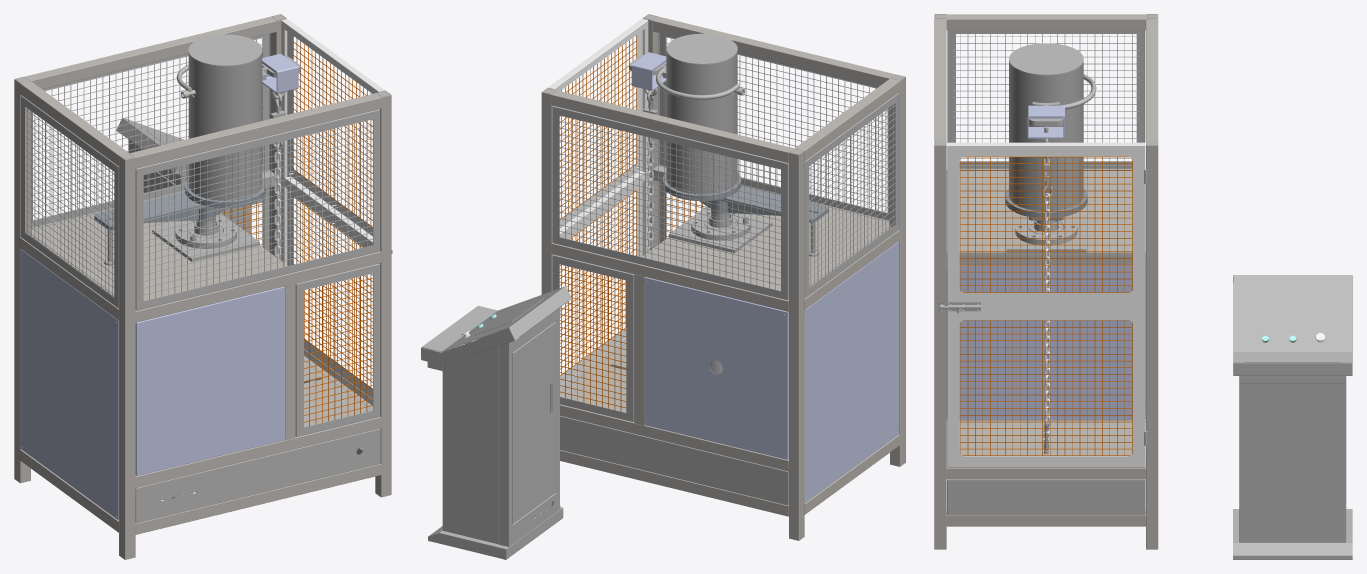
The model's file is 脚扣登高板静载试验机.glb.
3 views of the same model, side by side, from view 1: azimuth 30°, elevation 25°; view 2: azimuth 150°, elevation 25°; view 3: azimuth 270°, elevation 25° (orthographic). The views are drawn at different scales.
Visible parts, largest first — view 1: 脚扣登高板静载试验机.1; view 2: 脚扣登高板静载试验机.1; view 3: 脚扣登高板静载试验机.1.
Boxes of the visible parts, bbox=[...] form: 脚扣登高板静载试验机.1: bbox=[14, 14, 392, 559]; 脚扣登高板静载试验机.1: bbox=[421, 14, 905, 559]; 脚扣登高板静载试验机.1: bbox=[934, 14, 1352, 559].
Bounding box in the file's own units: 1.39 × 1.93 × 1.68.
